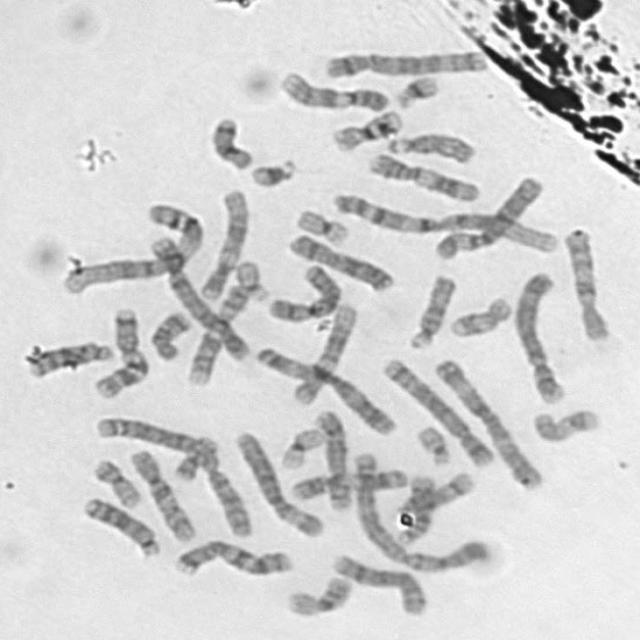A1: (322, 185, 560, 254), (55, 195, 207, 295)
A2: (84, 408, 258, 541), (345, 447, 493, 577)
A3: (426, 350, 546, 491), (247, 338, 399, 436)
B4: (140, 229, 253, 363), (507, 264, 568, 406)
B5: (375, 349, 498, 469), (316, 41, 488, 80)
C10: (124, 442, 198, 544), (556, 220, 613, 342)
C11: (360, 144, 484, 203), (284, 461, 412, 504)
C12: (284, 295, 362, 405), (192, 182, 252, 301)
C6: (225, 423, 326, 539), (426, 168, 546, 262)
C7: (85, 299, 148, 400), (167, 533, 296, 579)
C8: (324, 547, 430, 618), (308, 401, 354, 513)
C9: (180, 275, 254, 387), (272, 63, 392, 114)
D13: (75, 489, 162, 558), (19, 332, 116, 379)
D14: (390, 464, 477, 514), (390, 467, 440, 546)
D15: (401, 268, 458, 350), (379, 124, 478, 164)
E16: (324, 101, 405, 153), (278, 568, 354, 618)
E17: (442, 289, 514, 339), (523, 400, 603, 444)
E18: (202, 108, 255, 172), (142, 303, 194, 361)
F19: (288, 201, 352, 246), (272, 420, 326, 470)
F20: (85, 452, 143, 509), (167, 430, 220, 483)
G21: (387, 66, 443, 110), (242, 150, 298, 189)
G22: (226, 252, 271, 303), (409, 418, 455, 467)
X: (280, 226, 397, 293), (259, 256, 344, 324)
